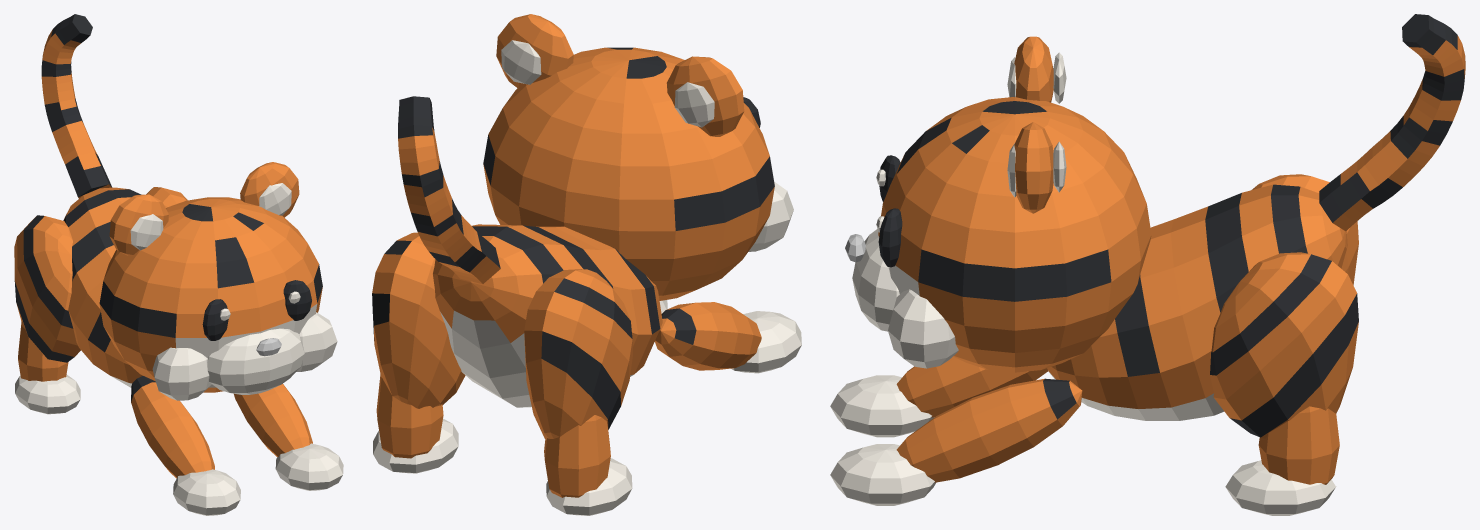
File: tiger-cub-pet.glb
3 renders of one model, left to right at view 1: azimuth 30°, elevation 25°; view 2: azimuth 150°, elevation 25°; view 3: azimuth 270°, elevation 25°, orthographic. The views are drawn at different scales.
Parts seen in each view (by area): view 1: TigerCub; view 2: TigerCub; view 3: TigerCub.
Part boxes in pixels (box(x1,y1,x2,y2)): TigerCub: box(14, 14, 343, 515); TigerCub: box(372, 14, 801, 515); TigerCub: box(830, 14, 1465, 515).
Bounding box in the file's own units: 1.5 × 2.4 × 3.
